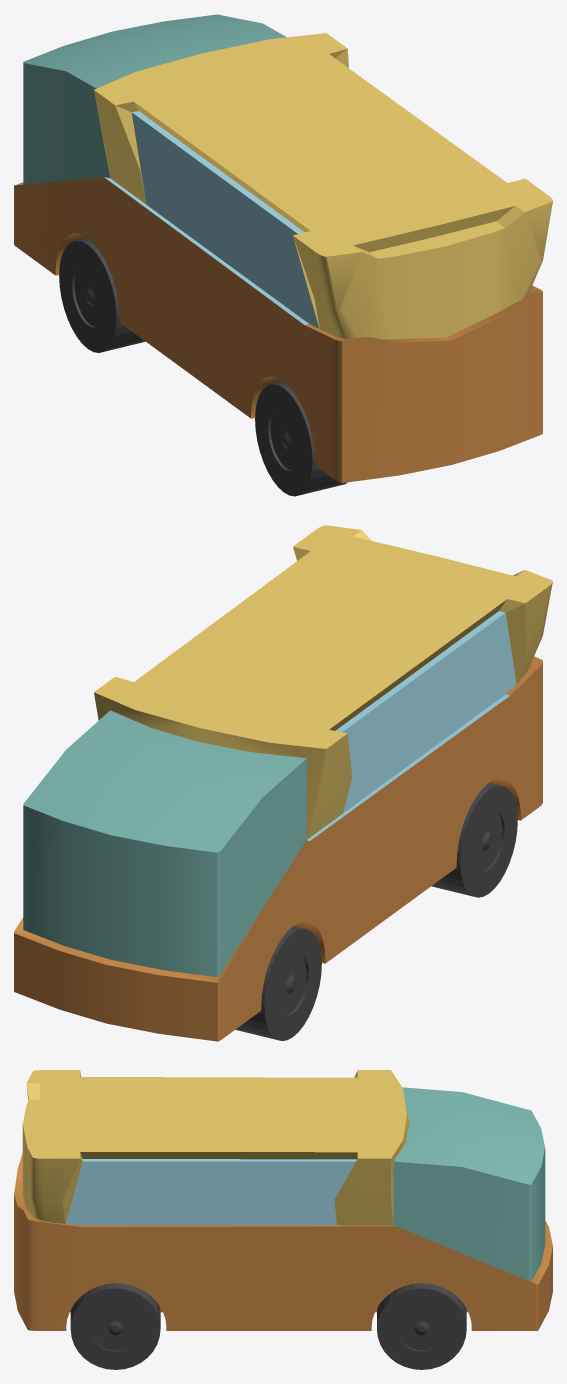
Rendered from bus.glb.
The picture shows the model from 3 angles, top to bottom: view 1: azimuth 30°, elevation 25°; view 2: azimuth 150°, elevation 25°; view 3: azimuth 270°, elevation 25°; orthographic projection. The views are drawn at different scales.
Visible parts, largest first — view 1: Plane, Cylinder.001, Cylinder.003; view 2: Plane, Cylinder.003, Cylinder.001; view 3: Plane, Cylinder.002, Cylinder.
Boxes of the visible parts, box(x1,y1,x2,y2) form: Plane: box(14, 14, 552, 482); Cylinder.001: box(59, 238, 145, 352); Cylinder.003: box(255, 381, 347, 496); Plane: box(14, 525, 552, 1041); Cylinder.003: box(431, 782, 517, 897); Cylinder.001: box(235, 926, 321, 1040); Plane: box(14, 1070, 552, 1330); Cylinder.002: box(70, 1283, 160, 1369); Cylinder: box(377, 1283, 466, 1369).
Bounding box in the file's own units: 4.67 × 5.32 × 12.
